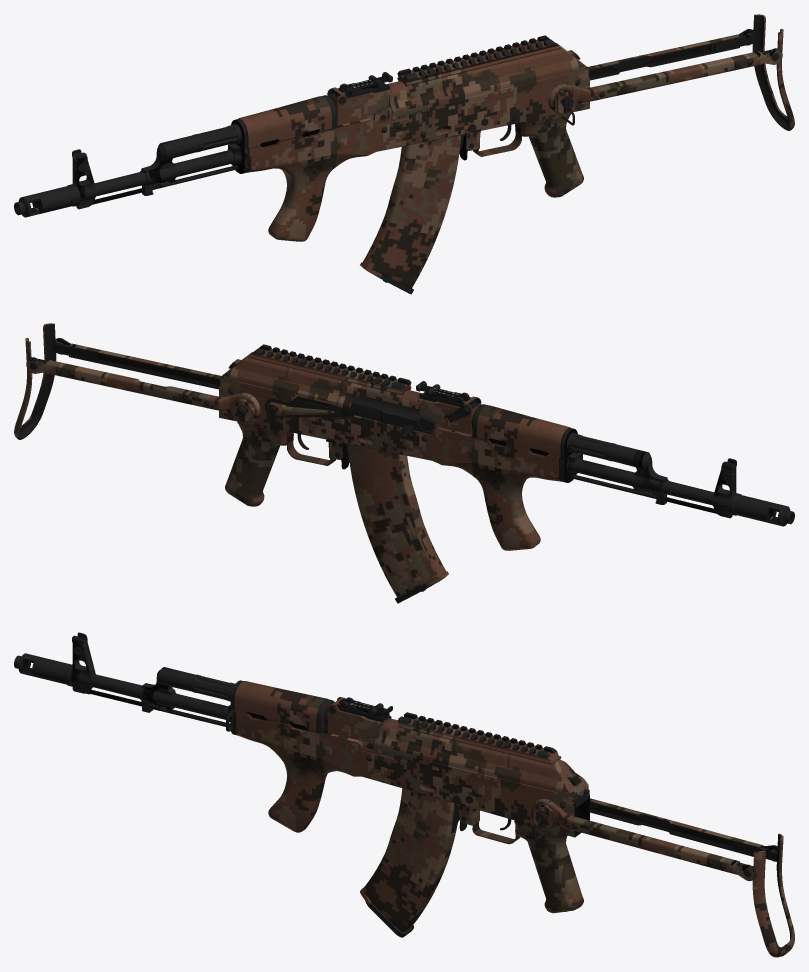
File: exc-000011.glb
3 views of the same model, one above another, from view 1: azimuth 30°, elevation 25°; view 2: azimuth 150°, elevation 25°; view 3: azimuth 330°, elevation 25° (orthographic).
Parts seen in each view (by area): view 1: RECIEVER_RPK, HANDGUARD_Foregrip, MAG_5.45, BARREL_AK74, Limb, GRIP_Polymer, Rail, Pad, Flashhider; view 2: RECIEVER_RPK, HANDGUARD_Foregrip, MAG_5.45, BARREL_AK74, Limb, GRIP_Polymer, Rail, Pad, Bolt, Flashhider, Selector; view 3: RECIEVER_RPK, HANDGUARD_Foregrip, MAG_5.45, Limb, BARREL_AK74, GRIP_Polymer, Rail, Pad, Flashhider.
Boxes of the visible parts, left/top/right/bottom form: RECIEVER_RPK: left=327, top=43, right=589, bottom=160; HANDGUARD_Foregrip: left=238, top=95, right=376, bottom=241; MAG_5.45: left=360, top=134, right=465, bottom=294; BARREL_AK74: left=72, top=119, right=251, bottom=209; Limb: left=548, top=29, right=782, bottom=114; GRIP_Polymer: left=515, top=112, right=583, bottom=197; Rail: left=397, top=35, right=561, bottom=86; Pad: left=746, top=14, right=794, bottom=130; Flashhider: left=14, top=184, right=80, bottom=217; RECIEVER_RPK: left=219, top=352, right=481, bottom=469; HANDGUARD_Foregrip: left=432, top=404, right=570, bottom=550; MAG_5.45: left=343, top=443, right=448, bottom=603; BARREL_AK74: left=559, top=428, right=736, bottom=518; Limb: left=26, top=338, right=260, bottom=423; GRIP_Polymer: left=225, top=421, right=293, bottom=506; Rail: left=247, top=344, right=411, bottom=395; Pad: left=14, top=323, right=62, bottom=439; Bolt: left=351, top=395, right=419, bottom=437; Flashhider: left=728, top=493, right=794, bottom=526; Selector: left=265, top=396, right=353, bottom=419; RECIEVER_RPK: left=327, top=697, right=589, bottom=844; HANDGUARD_Foregrip: left=234, top=681, right=362, bottom=832; MAG_5.45: left=360, top=788, right=458, bottom=937; Limb: left=531, top=798, right=782, bottom=881; BARREL_AK74: left=71, top=632, right=243, bottom=735; GRIP_Polymer: left=514, top=820, right=583, bottom=913; Rail: left=397, top=712, right=561, bottom=764; Pad: left=752, top=833, right=794, bottom=957; Flashhider: left=14, top=653, right=72, bottom=686.
Size of the model in its own units: 0.9266 by 0.2539 by 0.0806.
Materials: 6 (6 with a texture image).
